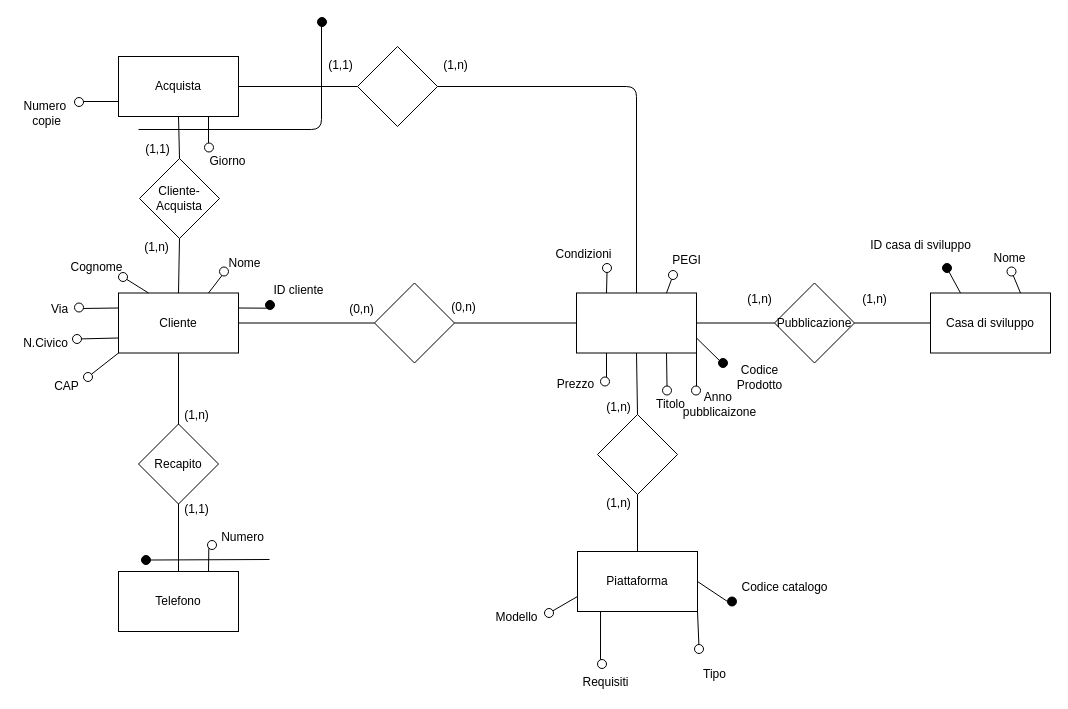
Some shapes in this 1068 by 709 pixel diagram are drawn without their labels. The shapes that lost their labels are listed below. From the top down, each one's centre as x and y in pixels, then its label:
pixel 397 86: Acquista-Gioco
pixel 414 322: Vende
pixel 636 322: Gioco
pixel 637 454: Rirpoduzione
